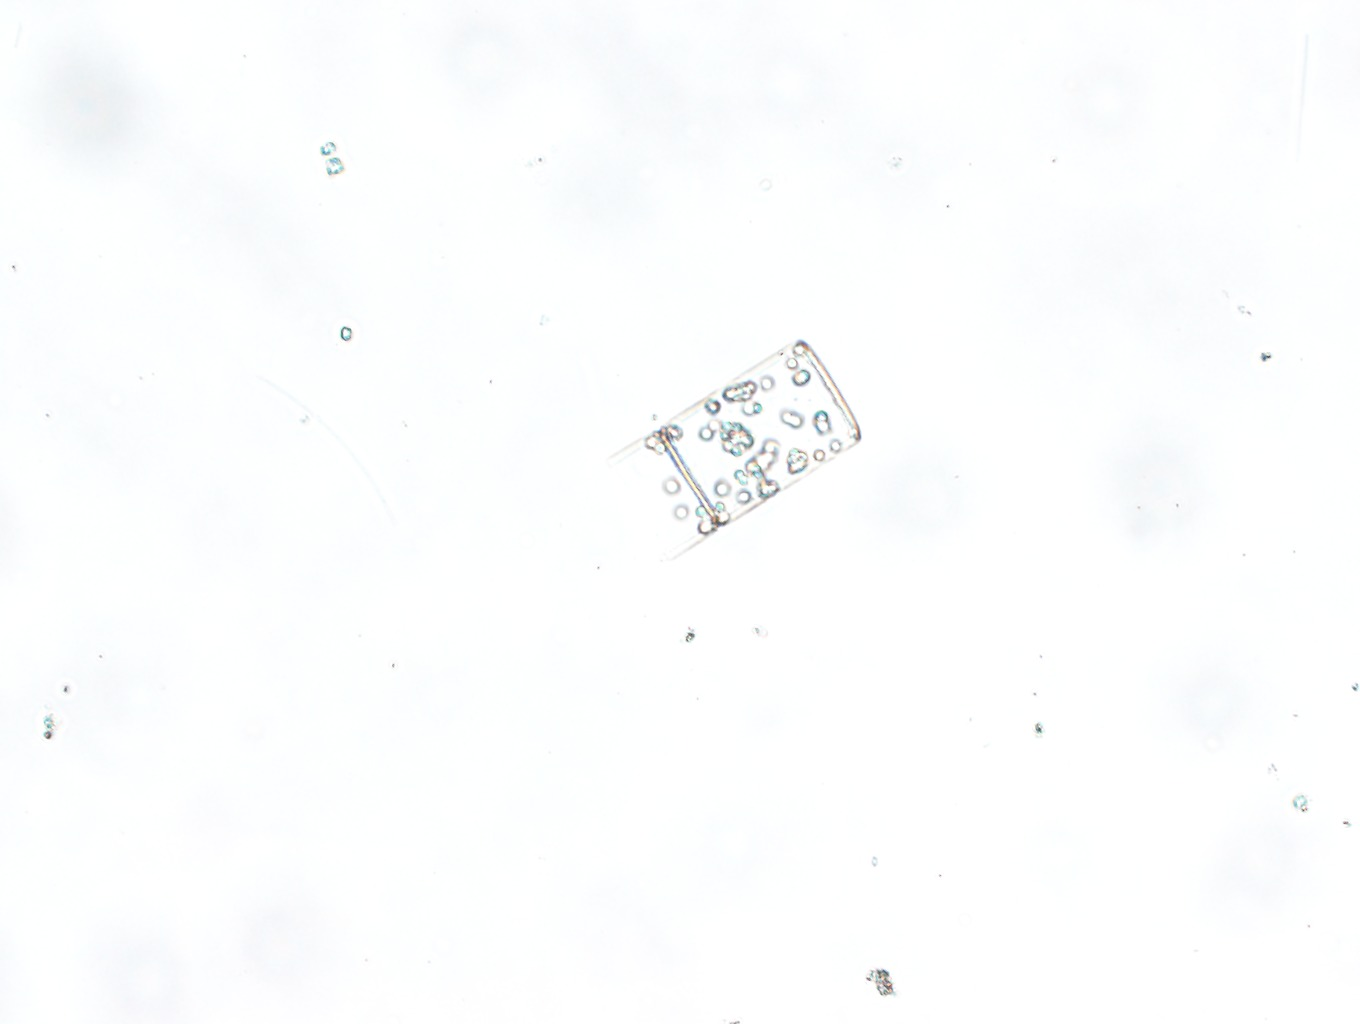guinardia flaccida: (607, 337, 860, 561)
